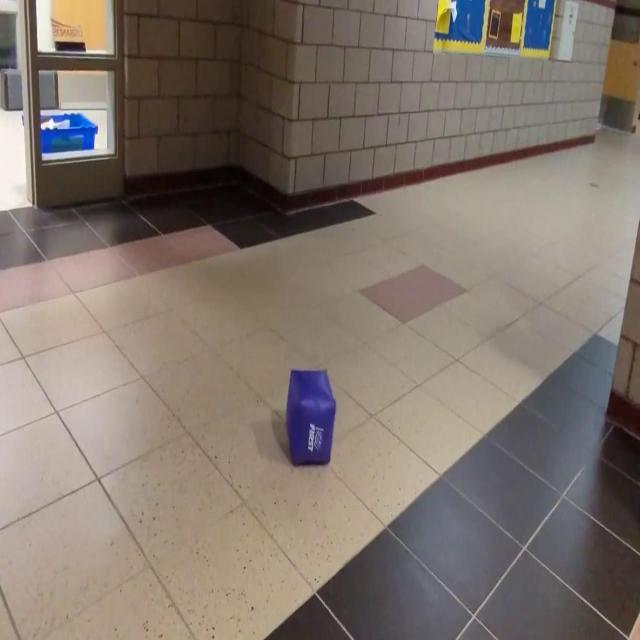frc_cube: (285, 366, 335, 464)
